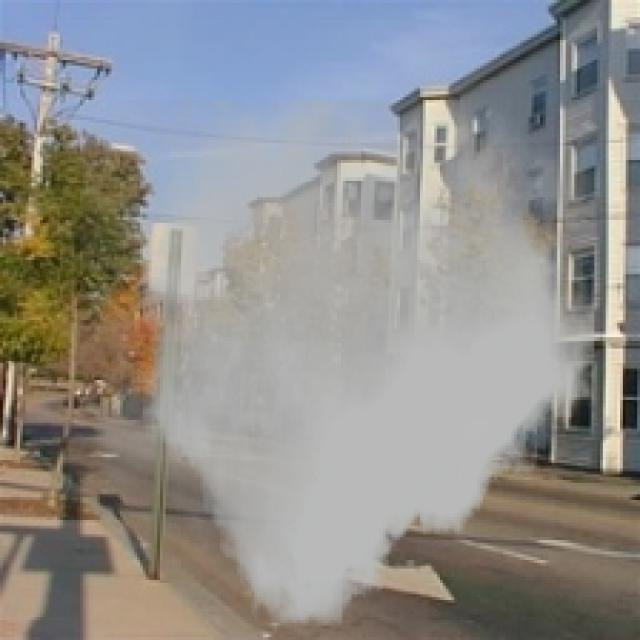Smoke: (80, 100, 603, 626)
